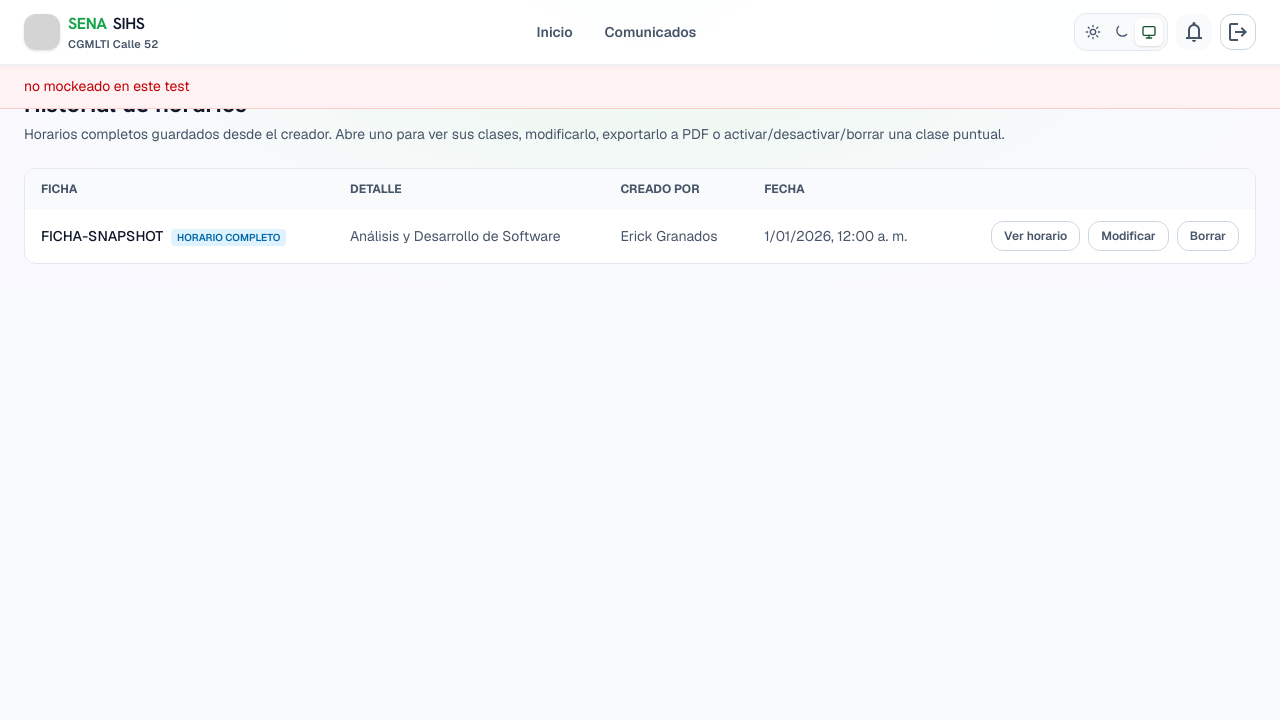
it: HistorialHorarios › borrar una clase dentro del horario la quita de "Clases de este horario"
The image size is (1280, 720).
Expected: the text "FICHA-SNAPSHOT" is shown, top-left (41, 227), bottom-right (163, 245)
Click the button "Ver horario". click: (1036, 236)
box: top-left (991, 221), bottom-right (1080, 251)
(page scrolled)
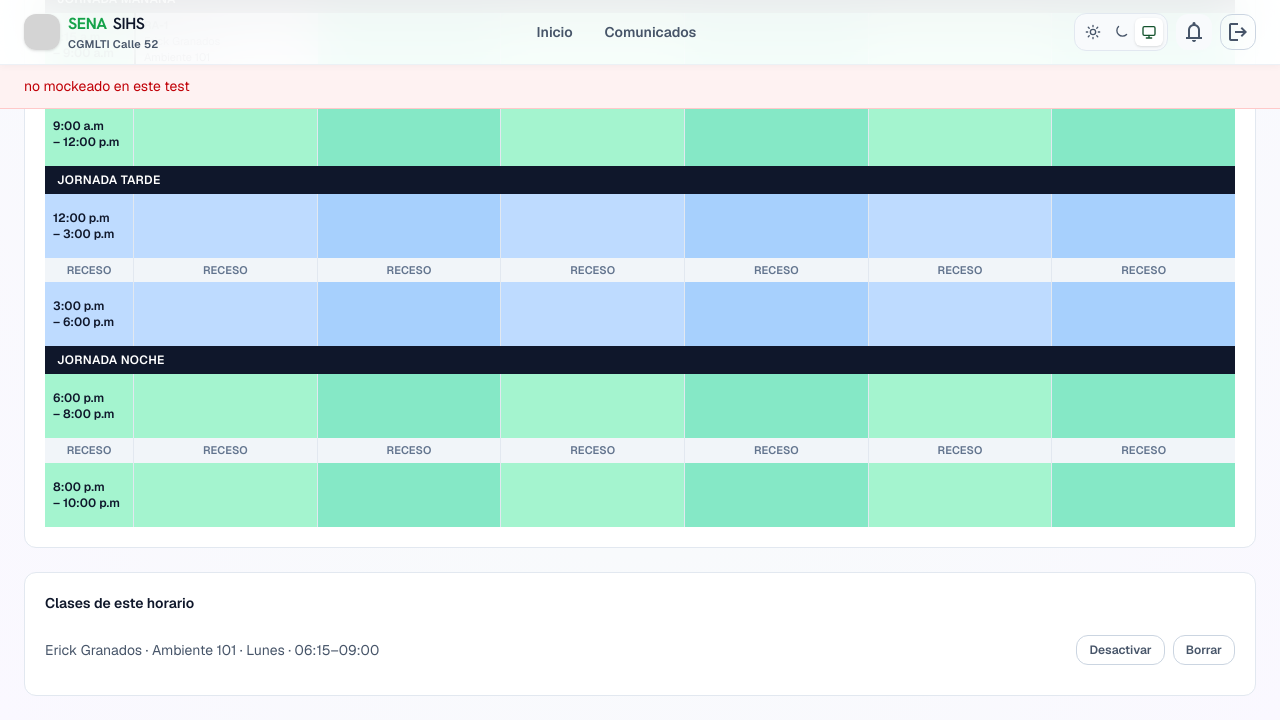
Click the button with aria-label "Borrar clase". click: (1204, 650)
box: top-left (1173, 634), bottom-right (1235, 664)
(page scrolled)
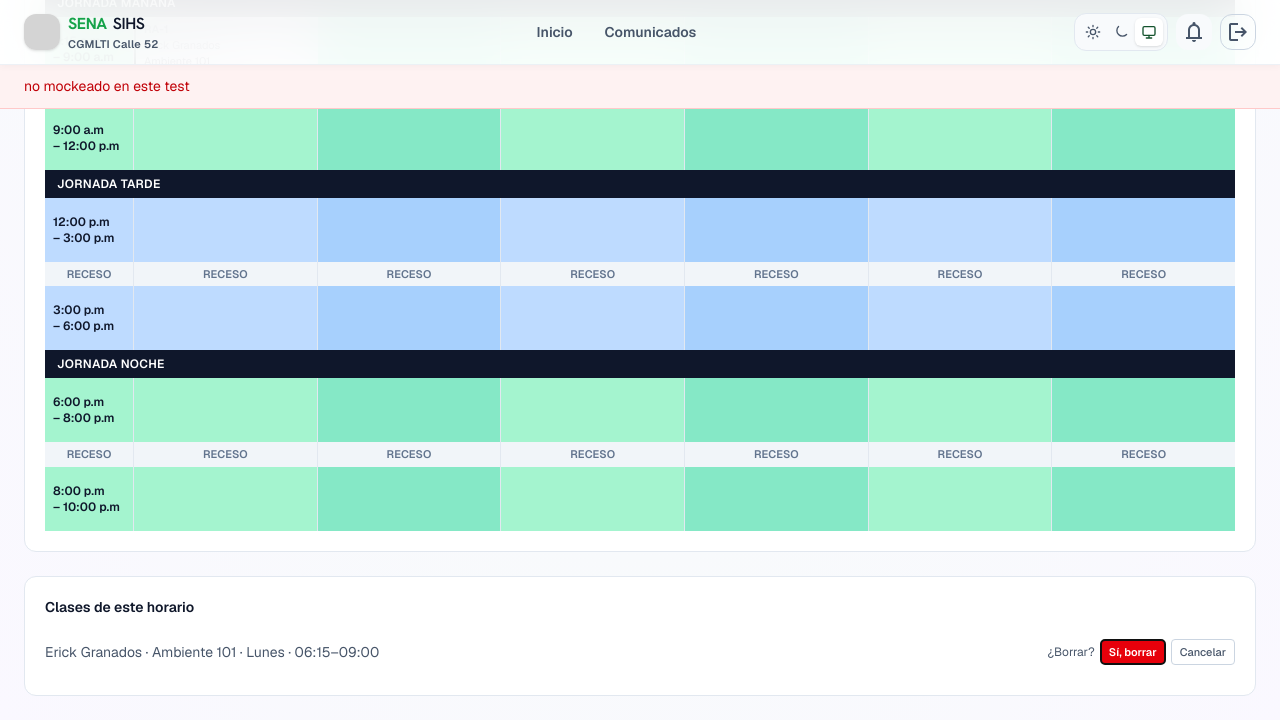
Click the button with aria-label "Confirmar borrar clase". click: (1133, 652)
box: top-left (1101, 640), bottom-right (1165, 664)
(page scrolled)
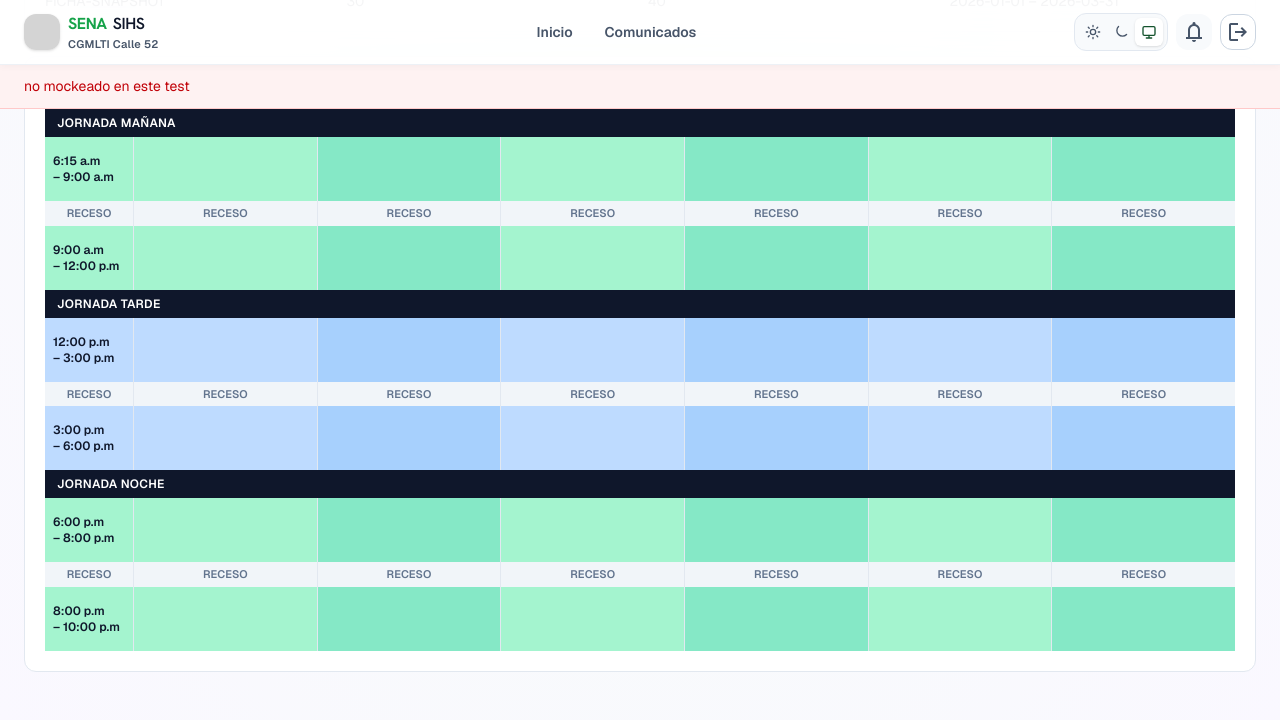
Result: the text "Clases de este horario" is gone
